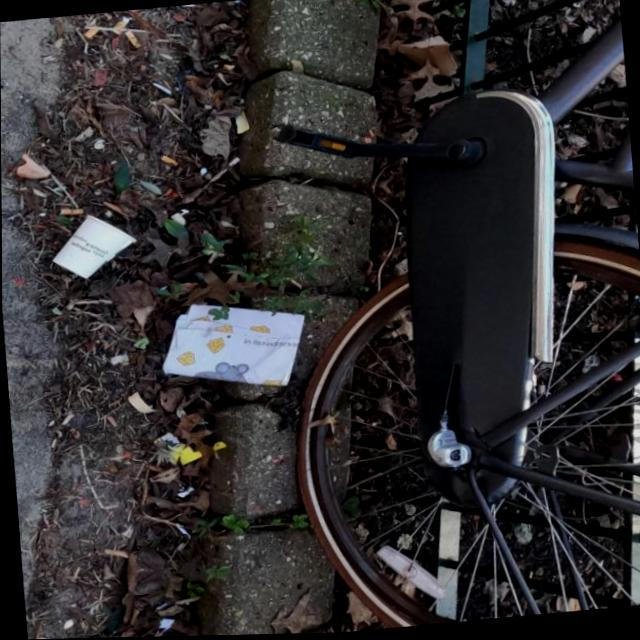Cup: (44, 211, 140, 284)
